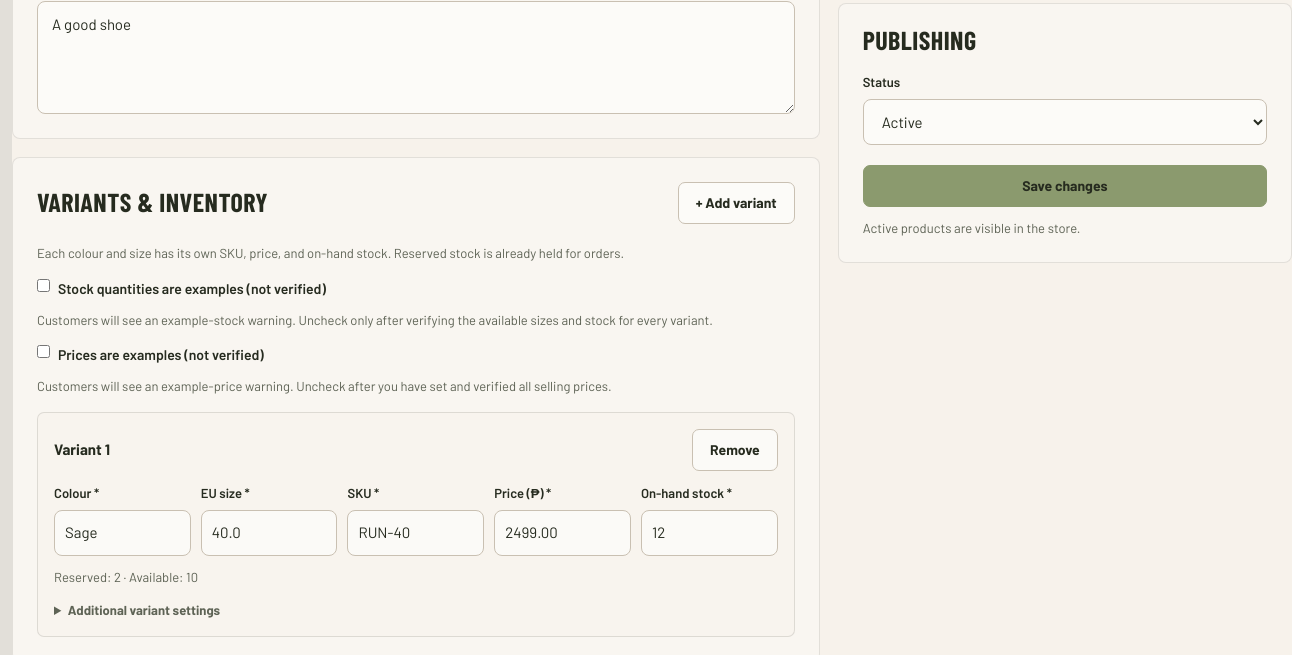
Test: stock updates include the original quantity and show concurrent-update errors
This screenshot has width=1292, height=655.
(page scrolled)
Replace the text in the number field labelled "On-hand stock *" with "14" at [709, 533], box [641,510,778,556]
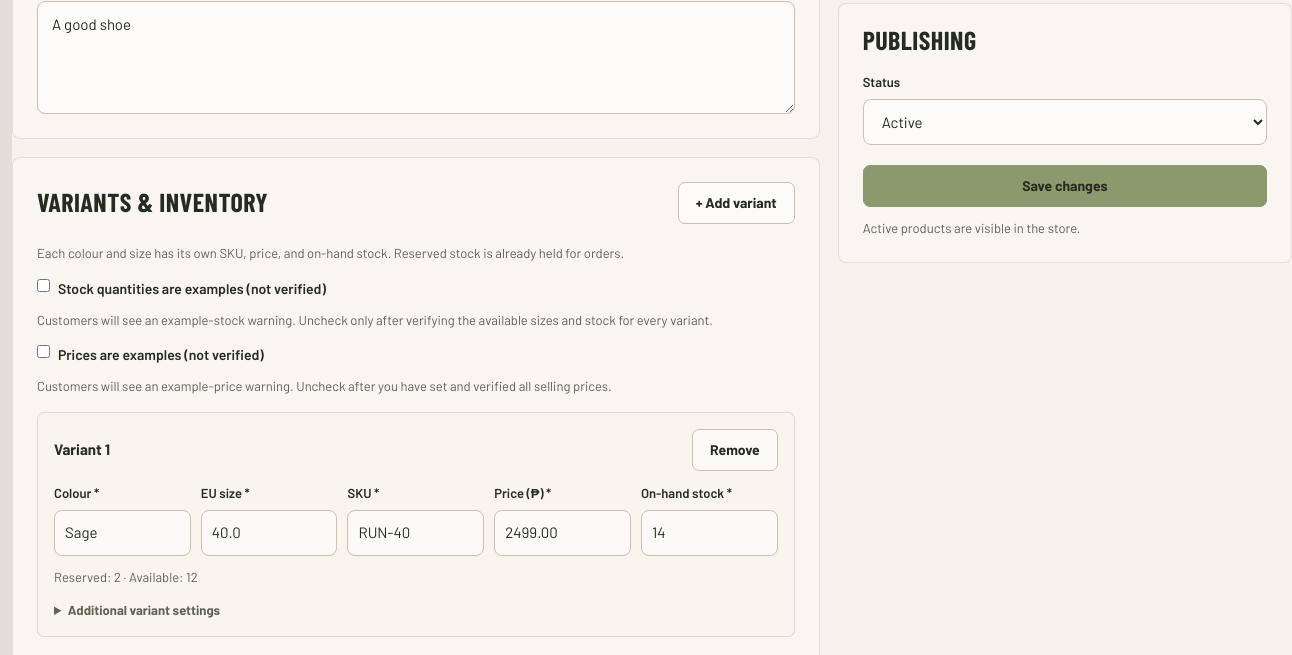
Click the button "Save changes" at [1065, 186], box [863,165,1267,207]
(page scrolled)
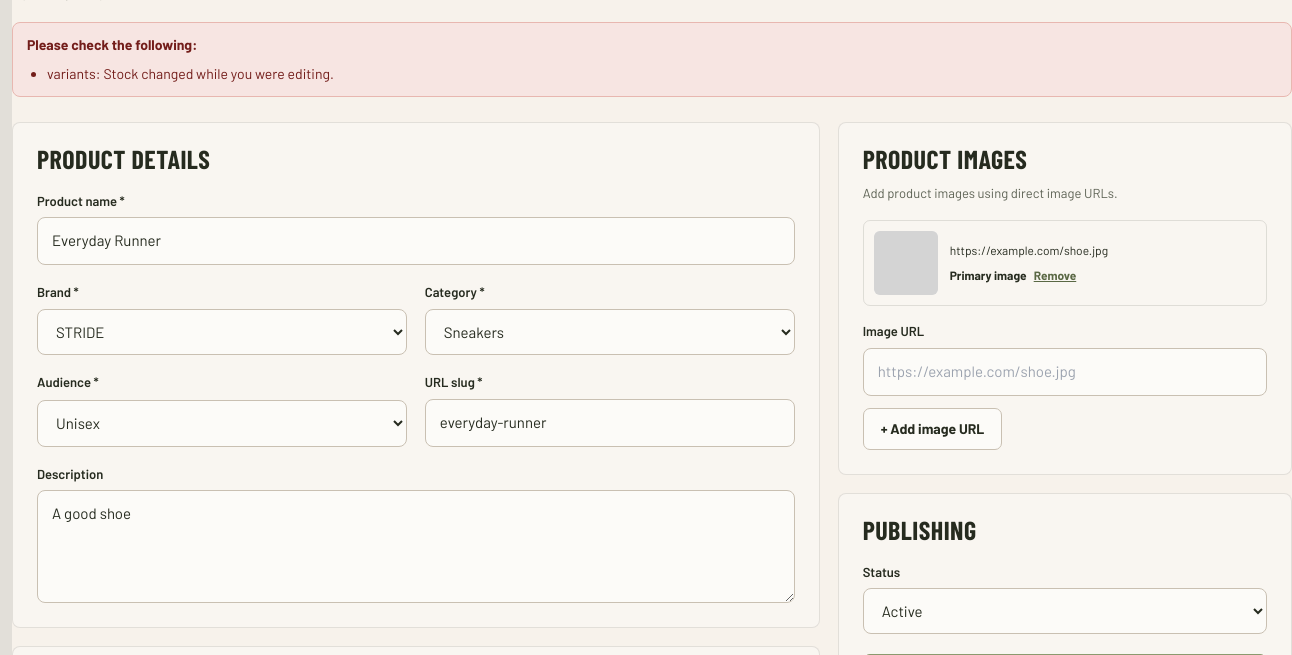
Expected: the message shows "Stock changed while you were editing.", [47,64,334,82]
